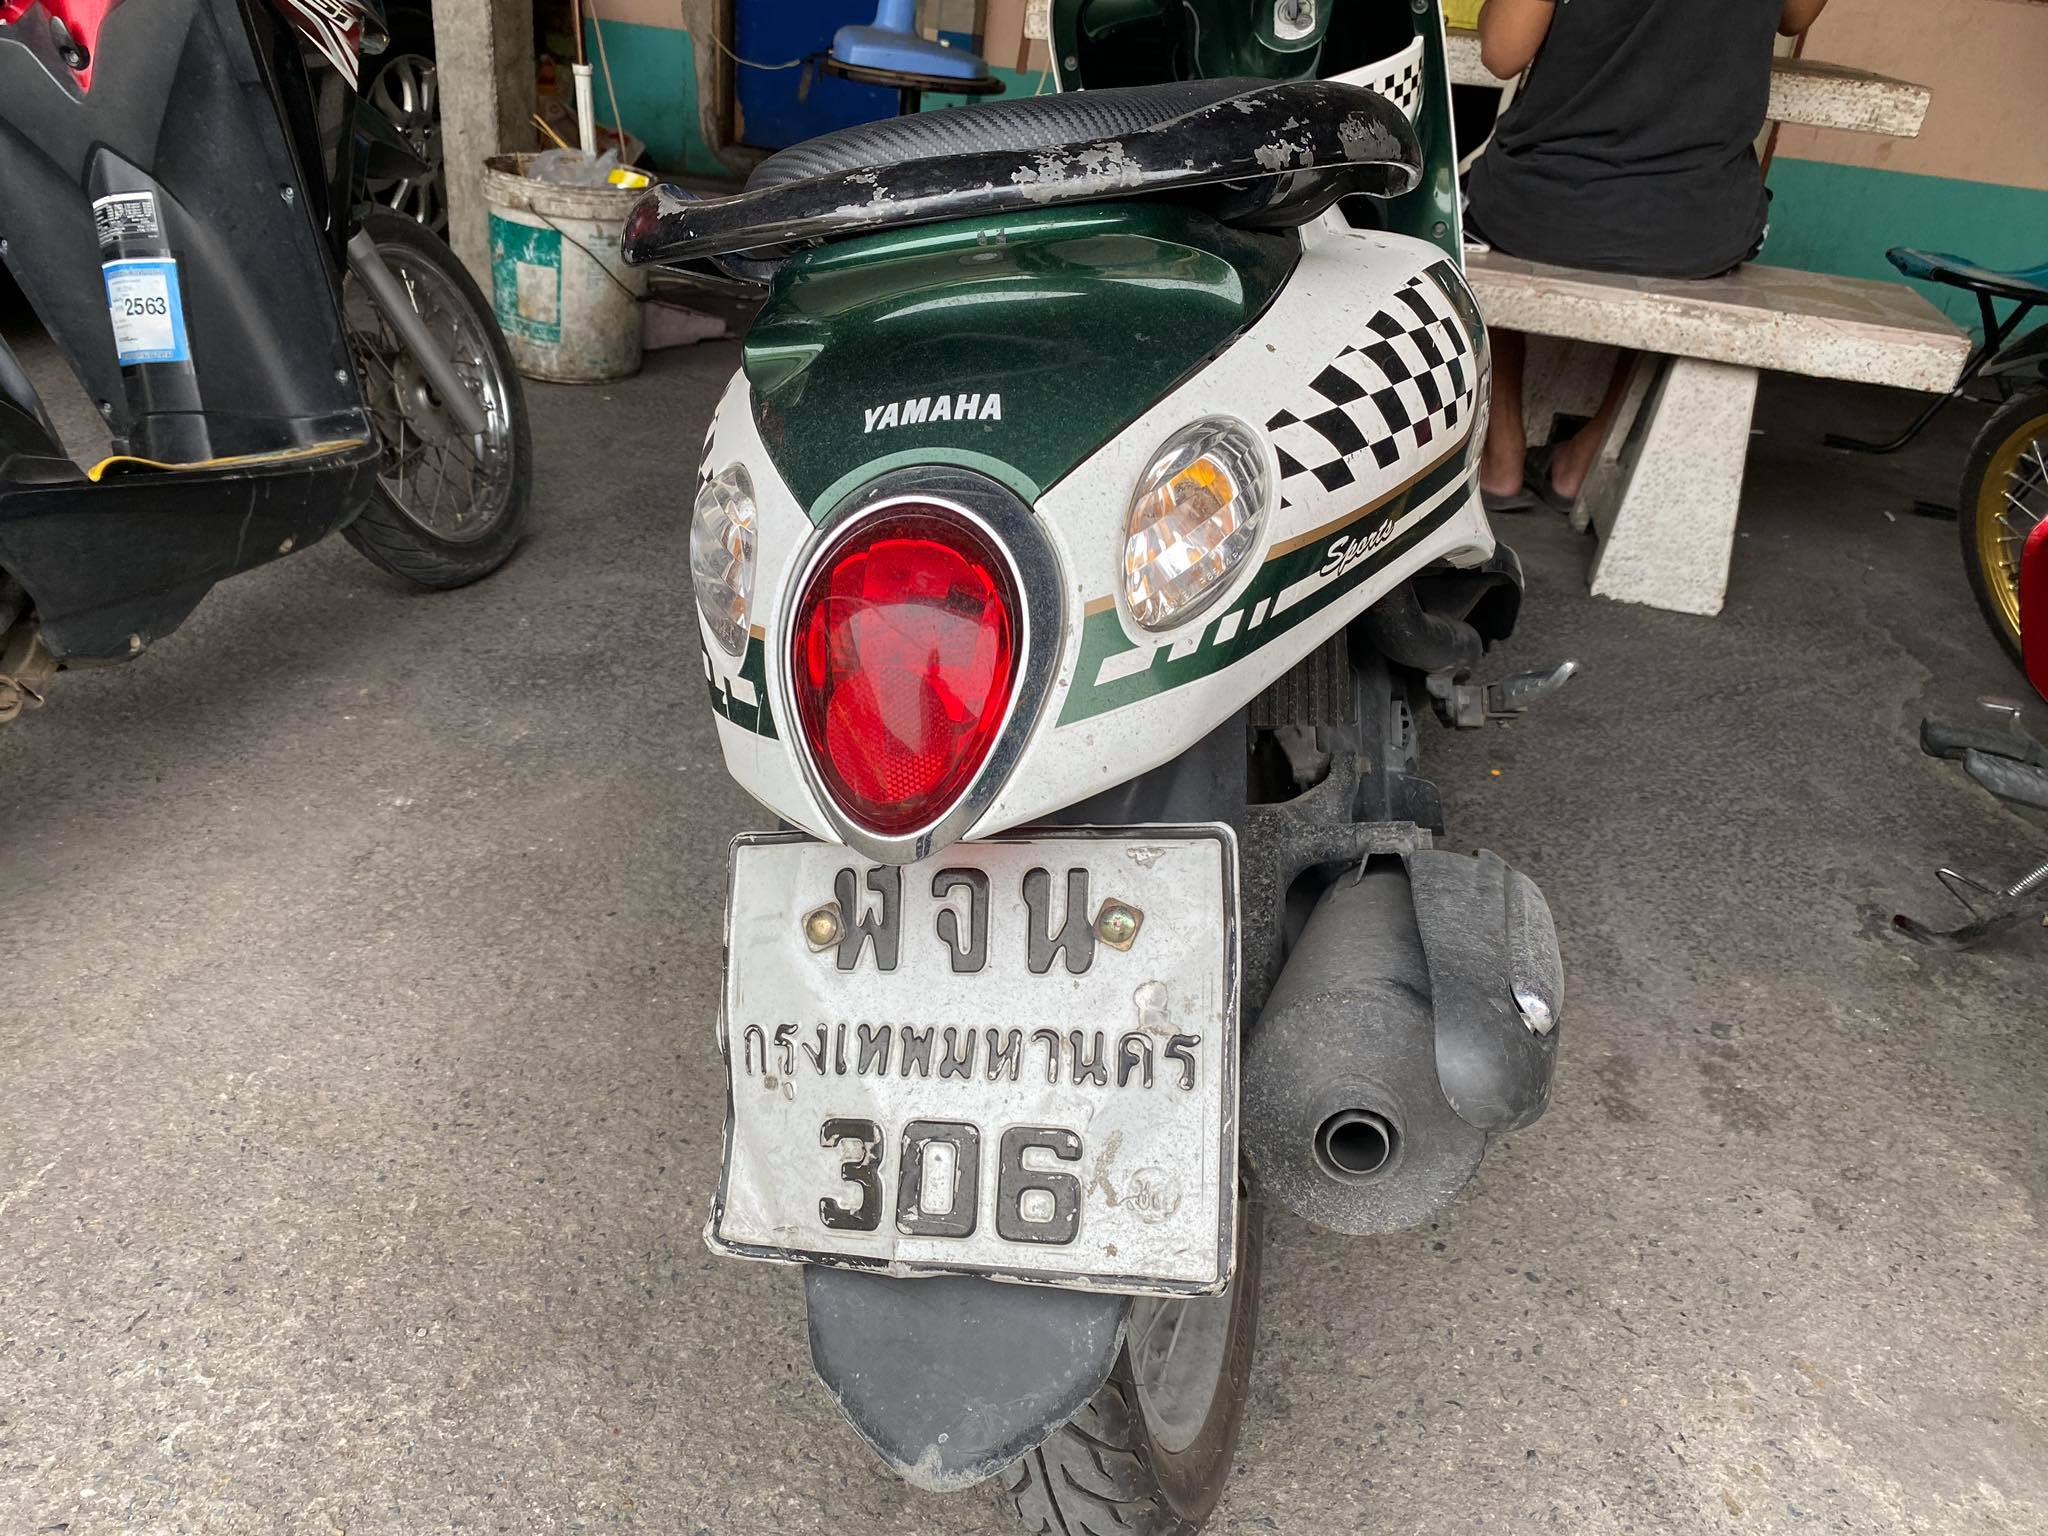line1: (819, 850, 1113, 979)
line2: (735, 984, 1218, 1112)
line3: (813, 1107, 1101, 1268)
